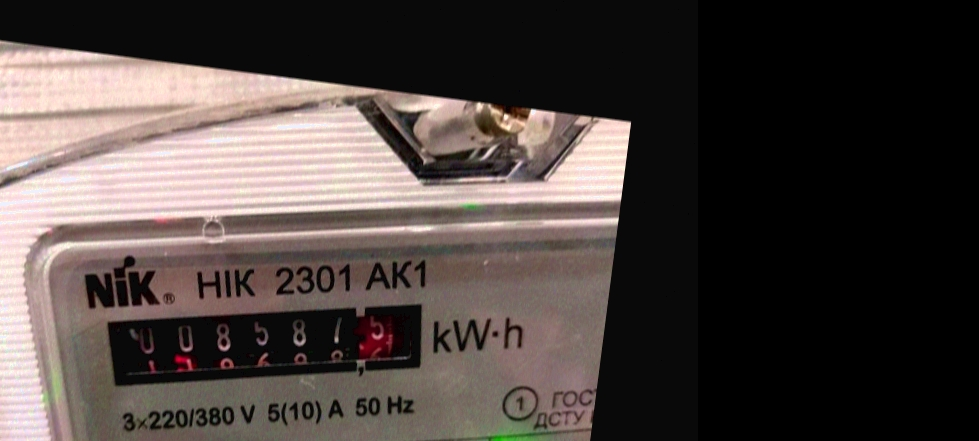0: (169, 318, 199, 355), (131, 321, 161, 356)
5: (247, 315, 273, 349), (363, 308, 388, 341)
6: (365, 343, 385, 362)
7: (322, 312, 348, 348)
8: (209, 319, 237, 354), (284, 314, 311, 349)
screen: (89, 263, 449, 428)
